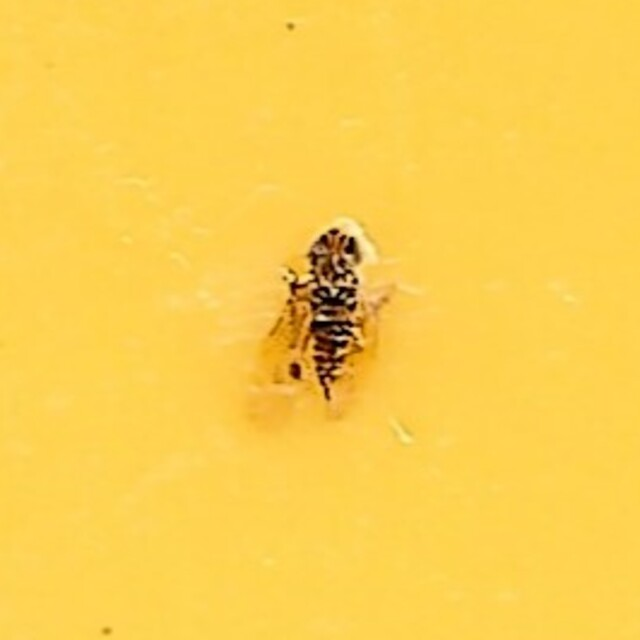Hemiptera: (241, 215, 399, 425)
